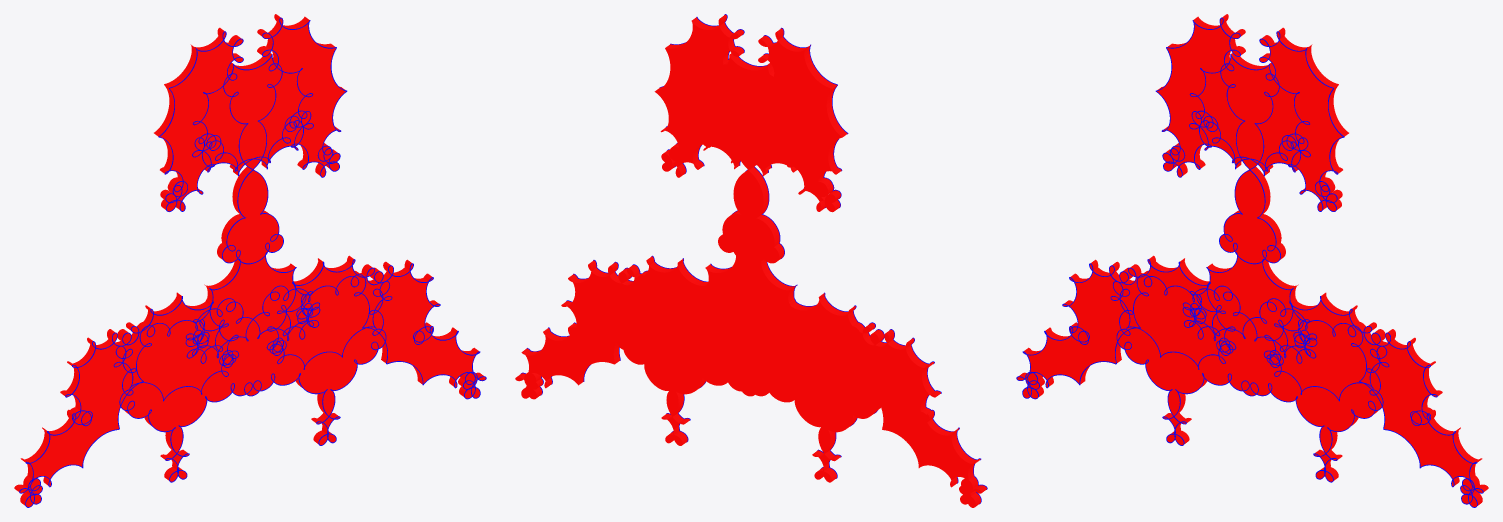
3 renders of one model, left to right at view 1: azimuth 30°, elevation 25°; view 2: azimuth 150°, elevation 25°; view 3: azimuth 330°, elevation 25°, orthographic.
Size of the model in its own units: 1 by 0.8982 by 0.0209.
